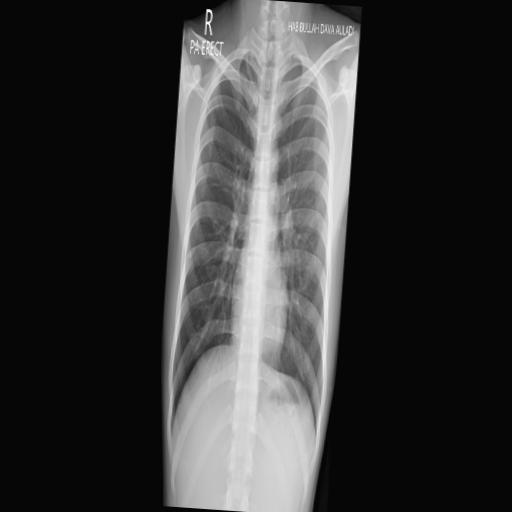normal: (165, 25, 349, 446)
